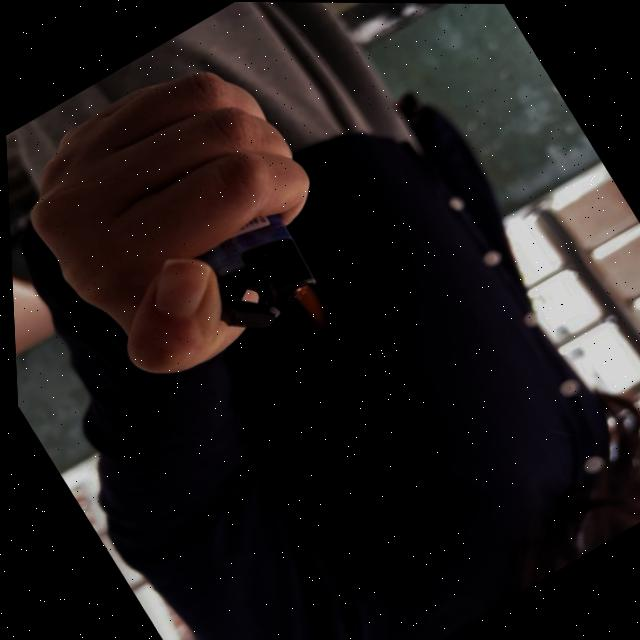Fire: (285, 278, 339, 342)
